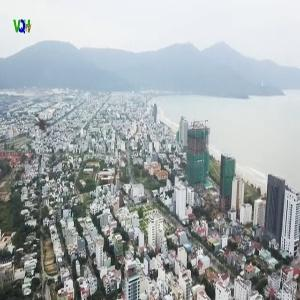drone: (19, 99, 70, 150)
